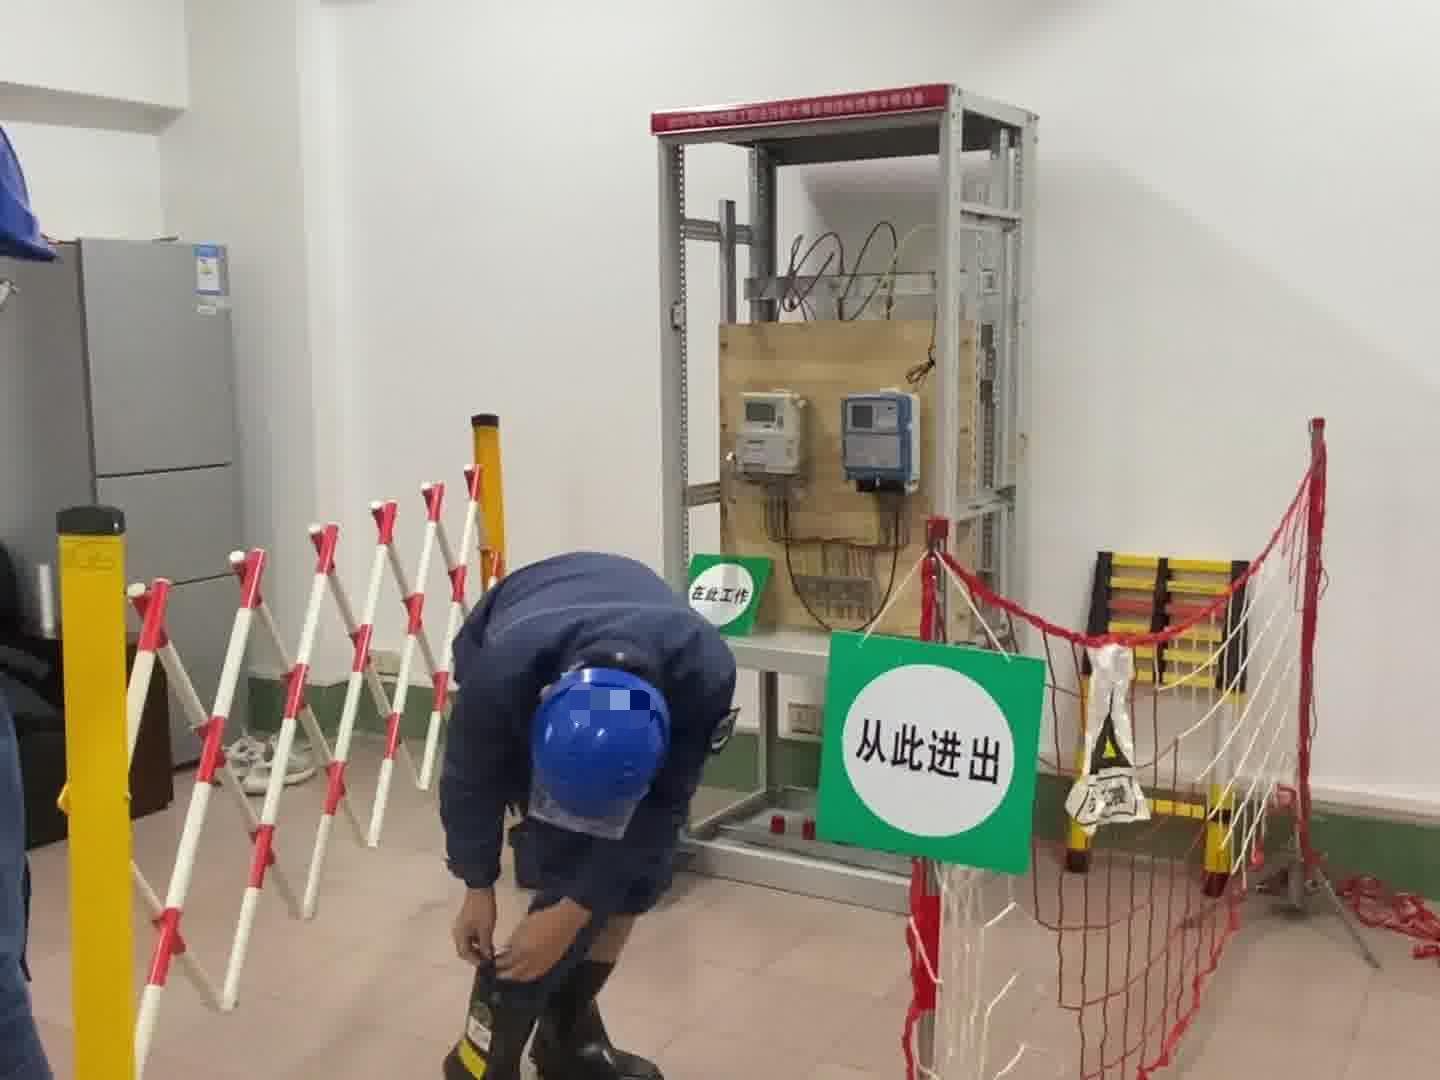halt: (526, 665, 677, 832)
